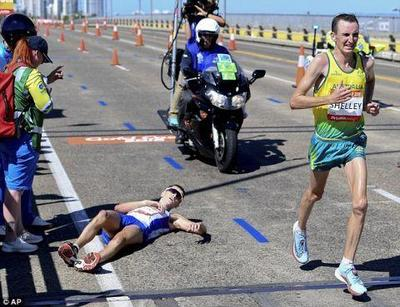fall: (49, 171, 214, 275)
